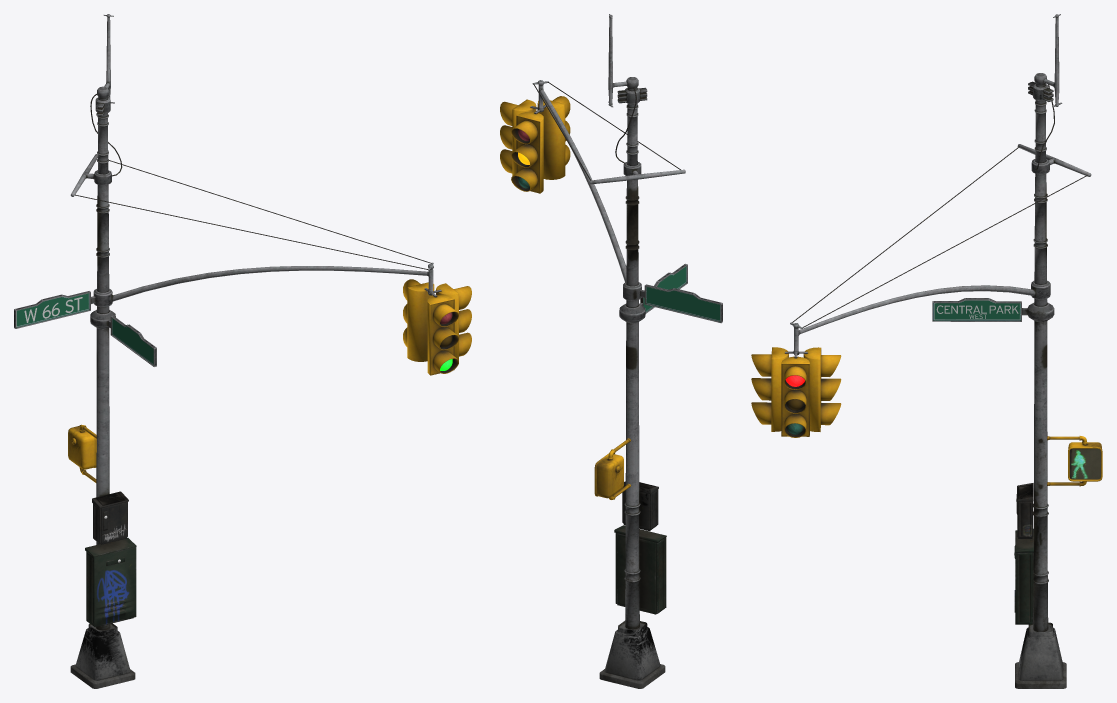
The model's file is traffic_light.glb.
3 views of the same model, side by side, from view 1: azimuth 30°, elevation 25°; view 2: azimuth 150°, elevation 25°; view 3: azimuth 270°, elevation 25° (orthographic). The views are drawn at different scales.
Parts seen in each view (by area): view 1: traffic signal - MAIN, traffic_light - left, traffic_light - right, street sign - top, street sign - bottom, traffic_light - center, walk_signal; view 2: traffic signal - MAIN, traffic_light - right, traffic_light - left, street sign - top, walk_signal, traffic_light - center, street sign - bottom; view 3: traffic signal - MAIN, street sign - bottom, traffic_light - center, traffic_light - right, traffic_light - left, walk_signal__face, walk_signal.
Part boxes in pixels (x1=…): traffic signal - MAIN: x1=70, y1=14, x2=433, y2=688; traffic_light - left: x1=427, y1=293, x2=458, y2=375; traffic_light - right: x1=403, y1=279, x2=434, y2=361; street sign - top: x1=14, y1=291, x2=95, y2=328; street sign - bottom: x1=90, y1=309, x2=156, y2=366; traffic_light - center: x1=433, y1=283, x2=471, y2=359; walk_signal: x1=68, y1=424, x2=96, y2=482; traffic signal - MAIN: x1=532, y1=14, x2=685, y2=688; traffic_light - right: x1=511, y1=110, x2=543, y2=193; traffic_light - left: x1=537, y1=96, x2=570, y2=179; street sign - top: x1=640, y1=284, x2=722, y2=323; walk_signal: x1=594, y1=438, x2=630, y2=499; traffic_light - center: x1=500, y1=99, x2=537, y2=175; street sign - bottom: x1=619, y1=263, x2=687, y2=323; traffic signal - MAIN: x1=790, y1=14, x2=1091, y2=688; street sign - bottom: x1=932, y1=298, x2=1054, y2=322; traffic_light - center: x1=781, y1=353, x2=809, y2=437; traffic_light - right: x1=799, y1=347, x2=841, y2=431; traffic_light - left: x1=751, y1=347, x2=793, y2=431; walk_signal__face: x1=1069, y1=448, x2=1100, y2=479; walk_signal: x1=1047, y1=436, x2=1102, y2=486.
Bounding box in the file's own units: 3.28 × 6.09 × 2.89.
Materials: 7 (7 with a texture image).
